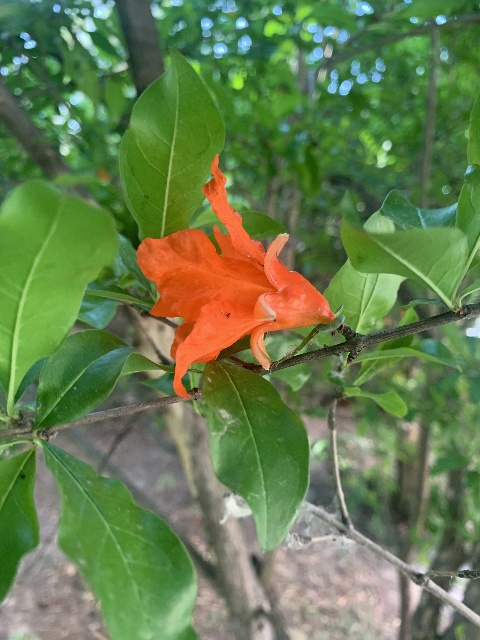flower: (136, 147, 334, 398)
